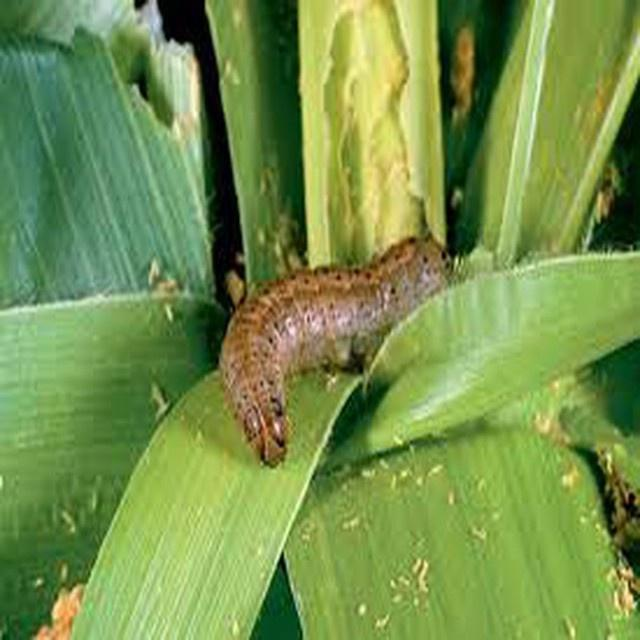gusano_cogollero: (226, 227, 438, 465)
